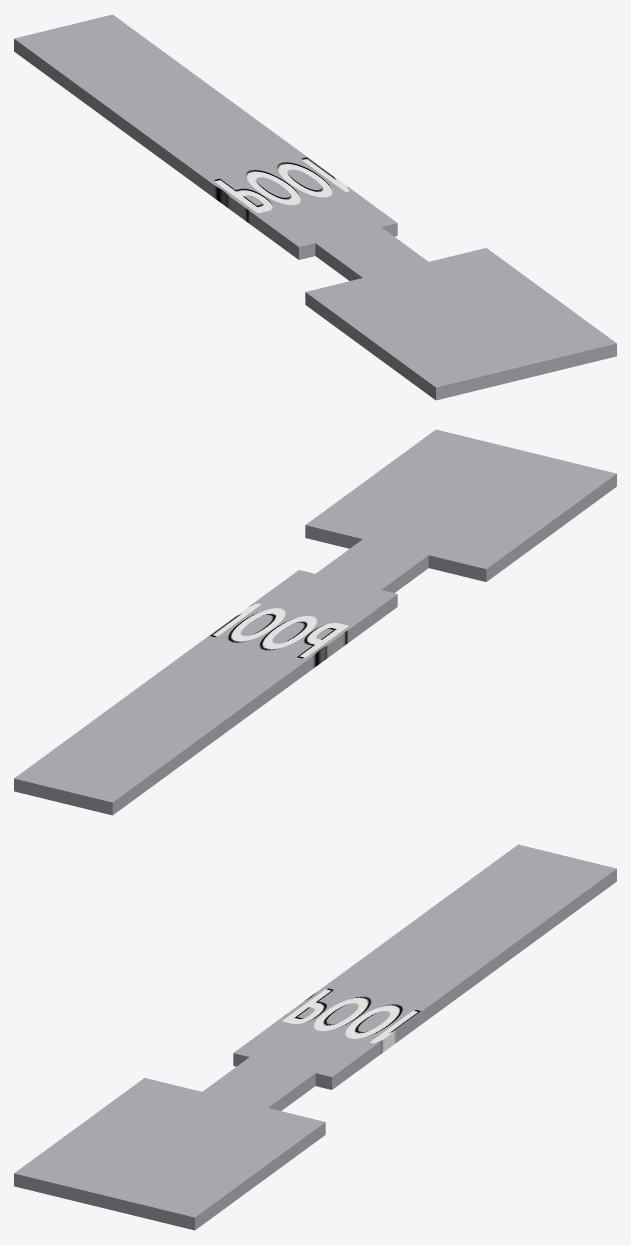
File: spoon.obj
3 renders of one model, top to bottom at view 1: azimuth 30°, elevation 25°; view 2: azimuth 150°, elevation 25°; view 3: azimuth 330°, elevation 25°, orthographic.
Visible parts, largest first — view 1: spoon; view 2: spoon; view 3: spoon.
Part boxes in pixels (x1,y1,x2,y2): spoon: (14,14,616,400); spoon: (14,429,616,815); spoon: (14,844,616,1230).
Size of the model in its own units: 0.044 by 0.003 by 0.195.
1 material, 1 textured.
